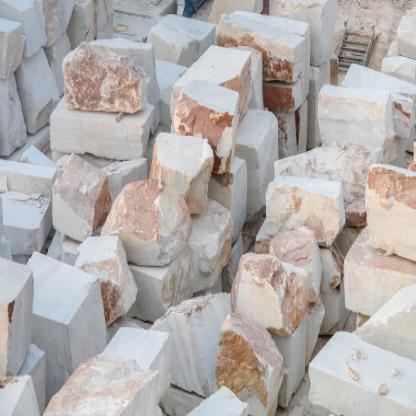Metamorphic_Marble: (4, 247, 110, 368), (197, 7, 316, 98), (100, 174, 195, 263), (312, 70, 396, 169), (332, 223, 415, 319), (59, 35, 159, 113), (358, 157, 416, 279), (101, 314, 180, 399), (141, 125, 215, 210), (222, 256, 316, 319), (52, 153, 110, 242), (1, 257, 36, 382), (1, 148, 56, 200), (1, 17, 27, 68)
